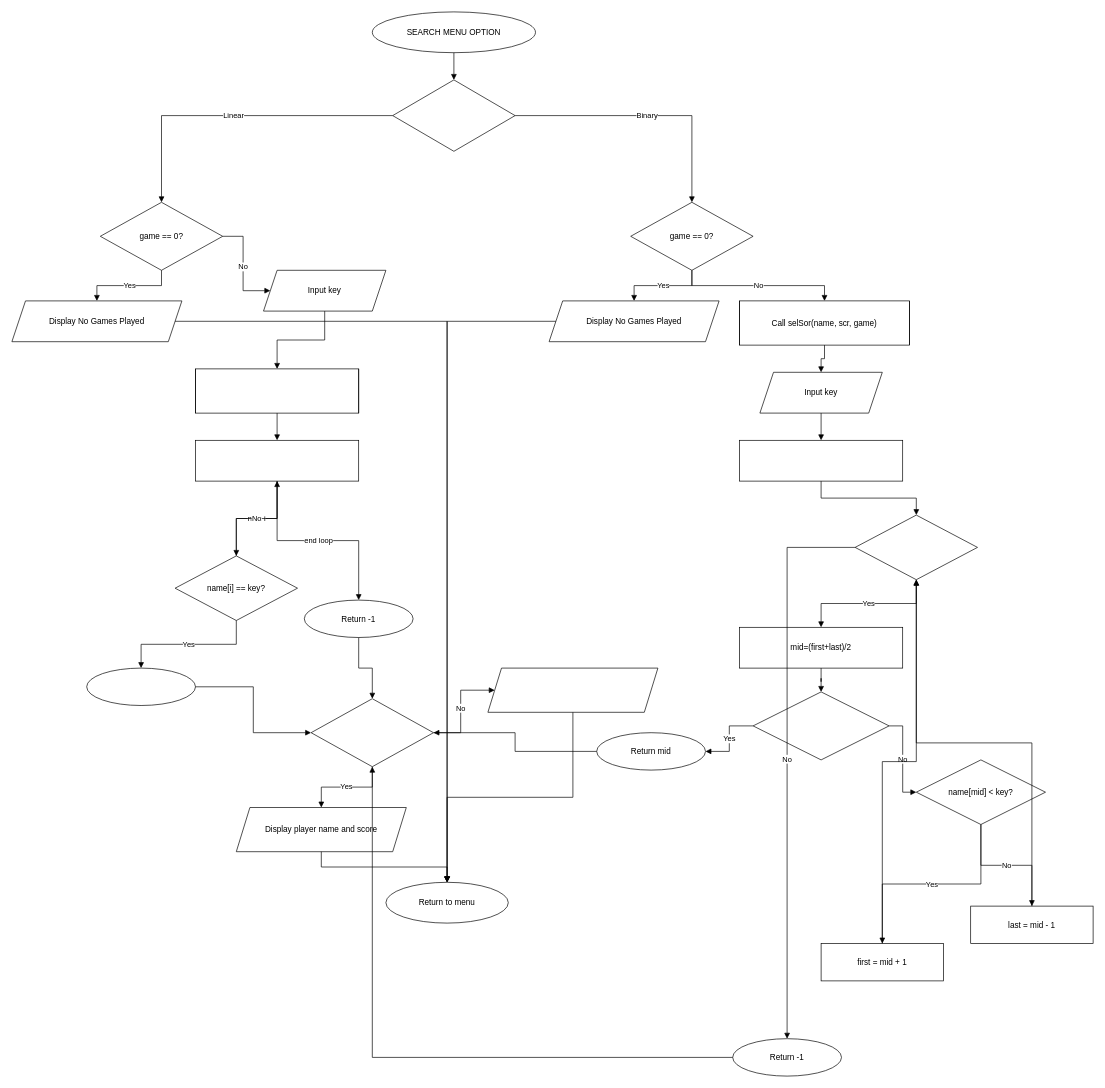
This 1105x1088 diagram has some shape labels left out. The shapes that lost their labels are listed below. From the top down, each one's centre as x and y in pixels, then its label:
pixel 453 115: Linear or Binary?
pixel 277 390: pos = linSrc(name, game, key)
pixel 277 460: For i = 0 to game-1
pixel 821 460: first=0, last=game-1
pixel 916 547: first <= last?
pixel 141 686: Return i
pixel 572 689: Display Player Not Found
pixel 372 732: pos >= 0?
pixel 820 725: name[mid] == key?
